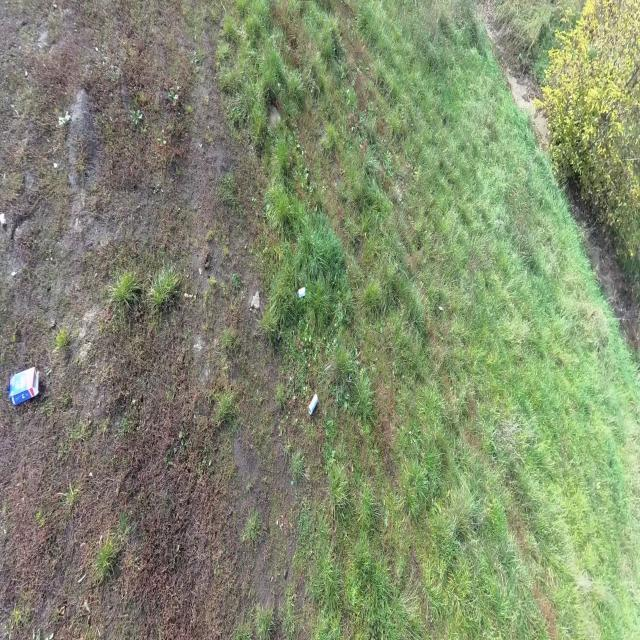rubbish: (8, 365, 40, 407), (308, 392, 319, 416), (295, 287, 307, 300), (0, 211, 6, 227)
